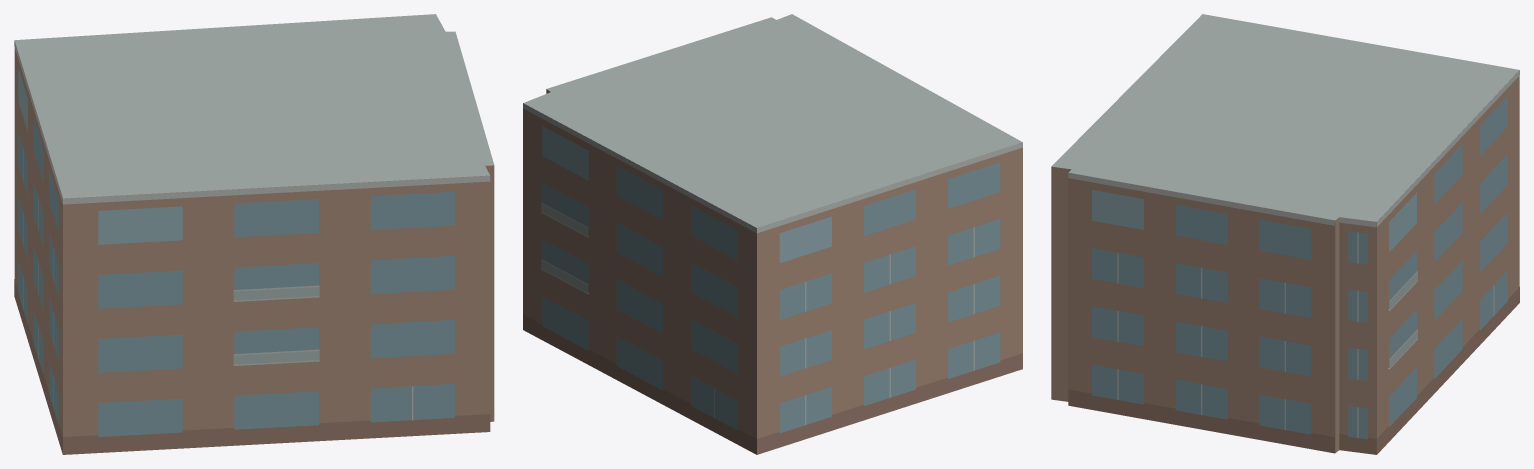
File: survey-upis-32913067.glb
3 renders of one model, left to right at view 1: azimuth 30°, elevation 25°; view 2: azimuth 150°, elevation 25°; view 3: azimuth 270°, elevation 25°, orthographic. The views are drawn at different scales.
Parts seen in each view (by area): view 1: survey-upis-32913067.tmp; view 2: survey-upis-32913067.tmp; view 3: survey-upis-32913067.tmp.
Boxes of the visible parts, x1,y1,x2,y2 form: survey-upis-32913067.tmp: (14, 14, 494, 454); survey-upis-32913067.tmp: (523, 14, 1022, 454); survey-upis-32913067.tmp: (1051, 14, 1519, 454).
Bounding box in the file's own units: 19.91 × 10.4 × 18.96.
